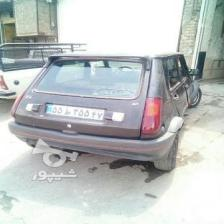plate: (44, 102, 104, 121)
